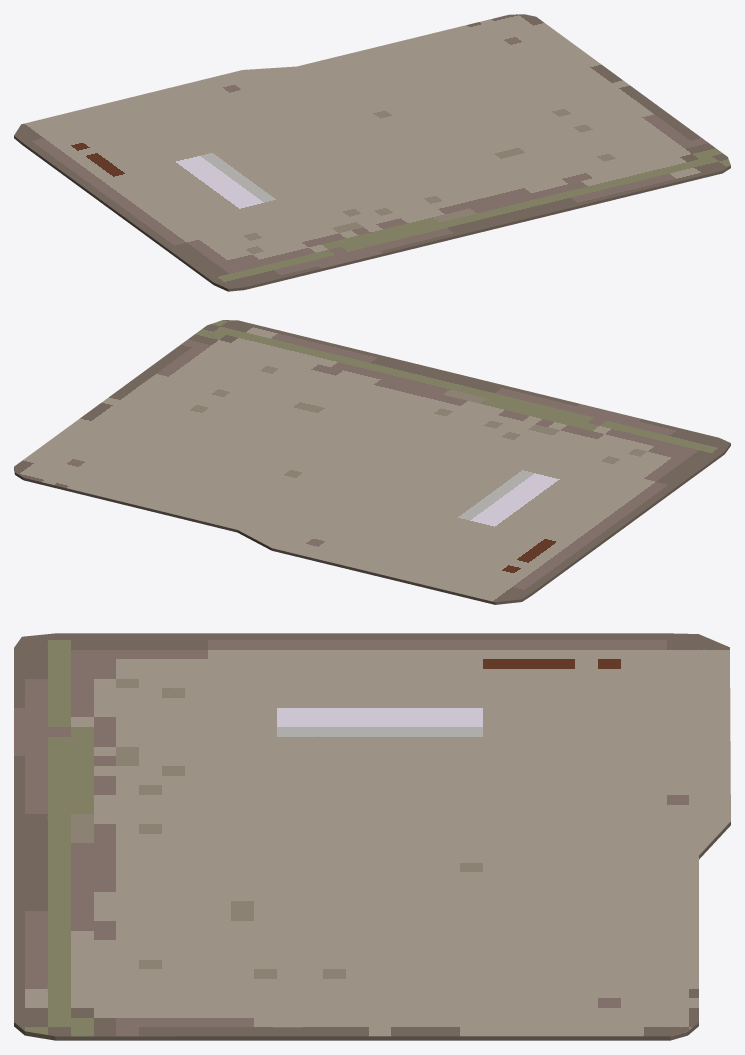
File: Document1.fbx
3 views of the same model, one above another, from view 1: azimuth 30°, elevation 25°; view 2: azimuth 150°, elevation 25°; view 3: azimuth 270°, elevation 25° (orthographic). The views are drawn at different scales.
Visible parts, largest first — view 1: 2; view 2: 2; view 3: 2.
Boxes of the visible parts, x1=… form: 2: x1=14, y1=14, x2=730, y2=291; 2: x1=14, y1=320, x2=730, y2=604; 2: x1=14, y1=633, x2=730, y2=1040.
Bounding box in the file's own units: 256 × 1.27 × 193.
Materials: 1 (1 with a texture image).
